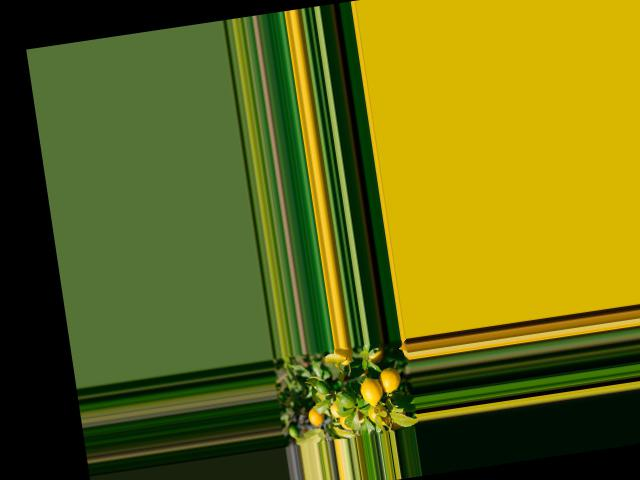lemon: (302, 401, 325, 429)
